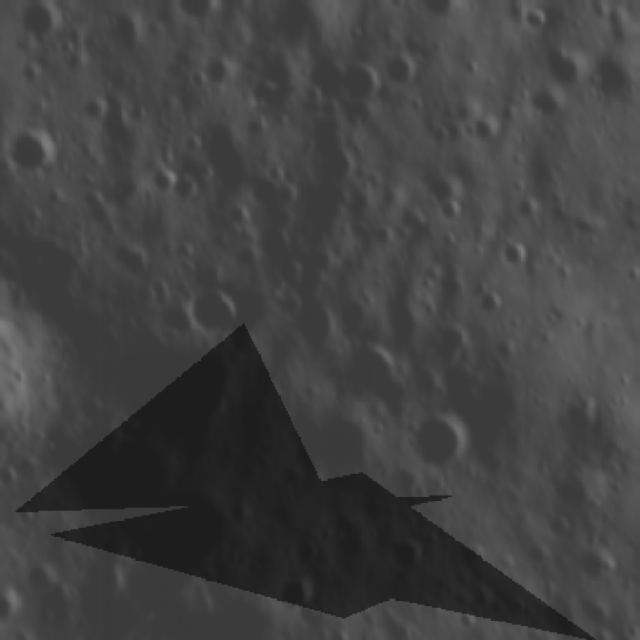crater: (0, 278, 52, 486), (300, 408, 386, 472), (408, 406, 481, 474), (342, 339, 420, 401), (2, 123, 63, 177), (334, 55, 386, 107), (595, 39, 640, 99), (191, 282, 244, 332), (534, 38, 591, 84), (253, 162, 304, 208), (296, 297, 341, 345), (116, 235, 159, 278), (280, 574, 326, 614), (314, 143, 360, 183), (19, 0, 59, 45), (388, 532, 430, 573), (569, 392, 609, 432), (490, 234, 536, 268), (523, 85, 566, 121), (577, 550, 620, 581), (417, 0, 471, 22), (83, 92, 115, 128), (112, 11, 140, 52), (290, 534, 328, 564), (455, 541, 494, 570), (206, 54, 234, 94), (386, 53, 422, 84), (437, 193, 469, 227), (510, 192, 545, 222), (523, 540, 560, 568), (478, 285, 510, 317), (469, 112, 503, 142), (0, 585, 22, 629), (172, 0, 220, 20), (548, 510, 582, 538), (525, 1, 552, 32), (309, 246, 337, 274), (178, 172, 208, 197), (406, 482, 436, 506), (629, 572, 640, 637), (156, 166, 176, 199), (614, 620, 640, 640), (87, 190, 110, 212), (618, 262, 640, 284), (513, 629, 550, 640), (384, 0, 408, 9), (638, 468, 640, 495)
